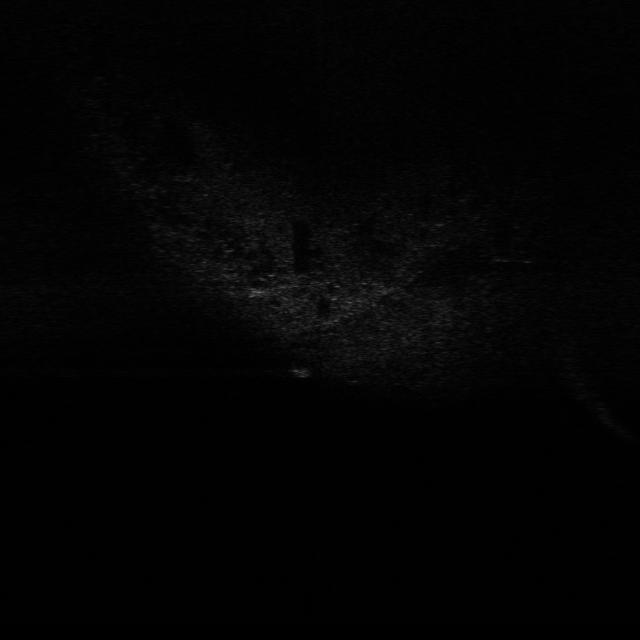cube: (288, 361, 318, 381)
